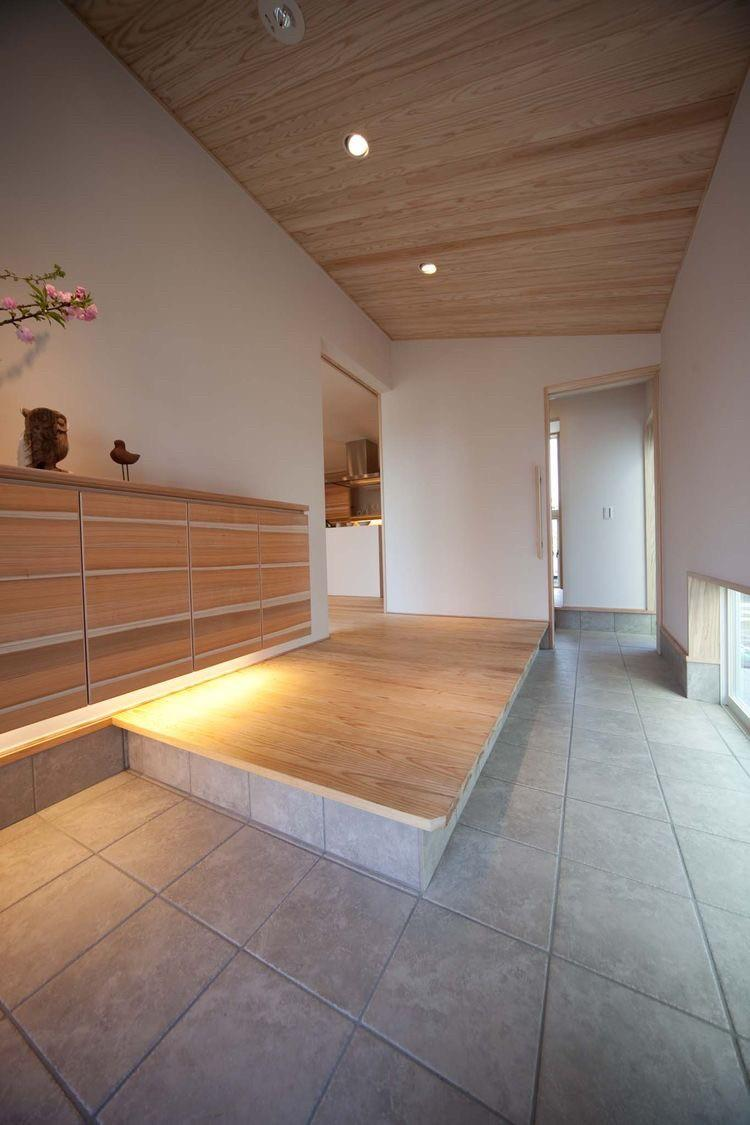floor: (0, 629, 749, 1124)
safe: (111, 595, 549, 819)
